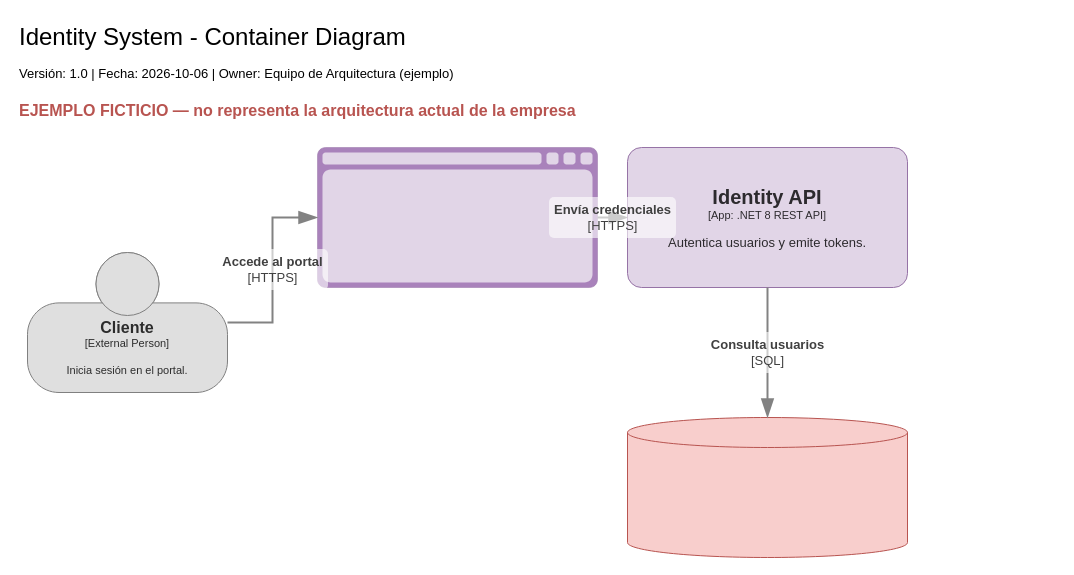
This 1074x575 diagram has some shape labels left out. The shapes that lost their labels are listed below. From the top down, each one's centre as x and y in pixels, then its label:
At point 457,217: "Identity Web [App: React] Presenta el formulario de acceso.".
At point 767,487: "identity-db [Store: PostgreSQL] Almacena usuarios y credenciales.".
